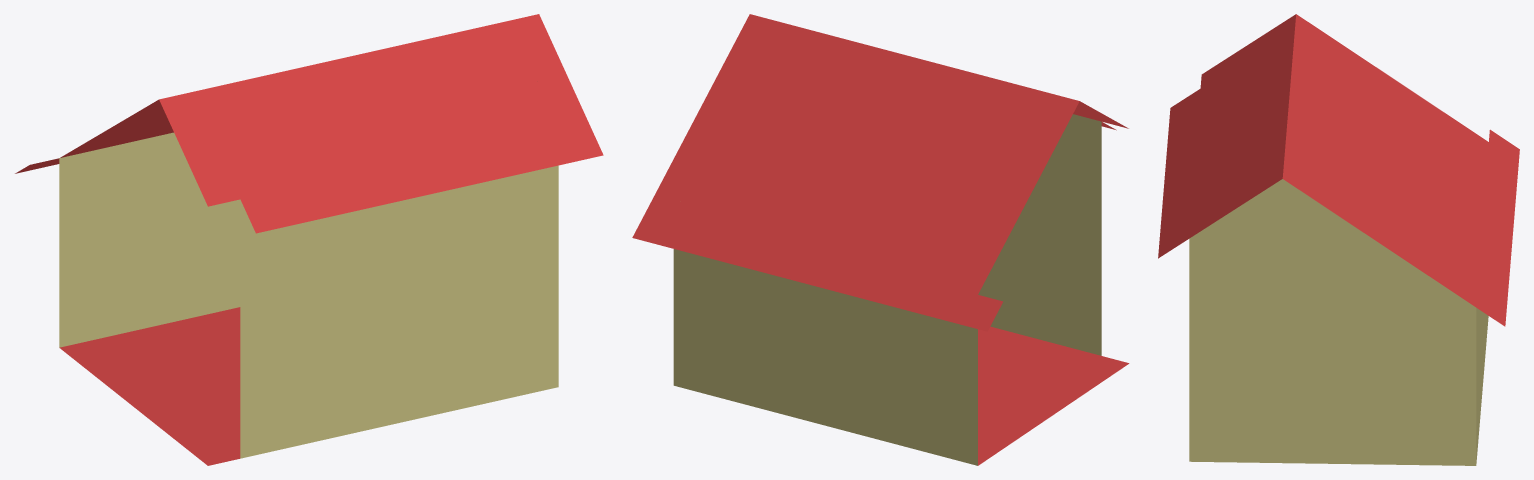
3 renders of one model, left to right at view 1: azimuth 30°, elevation 25°; view 2: azimuth 150°, elevation 25°; view 3: azimuth 270°, elevation 25°, orthographic. The views are drawn at different scales.
Size of the model in its own units: 14 by 12.02 by 10.89.
